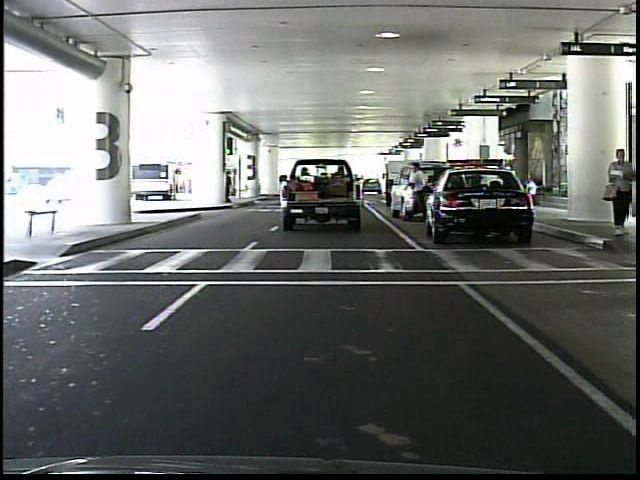person: (602, 146, 633, 239), (411, 159, 429, 225)
